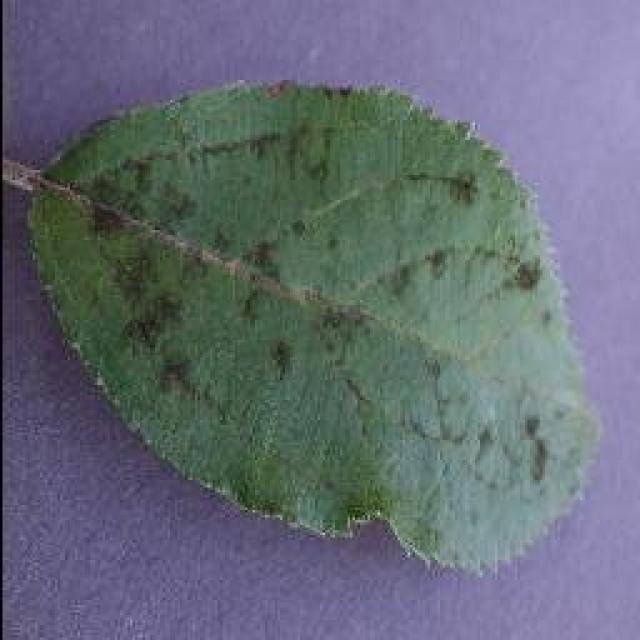apple scab disease: (12, 75, 602, 577)
